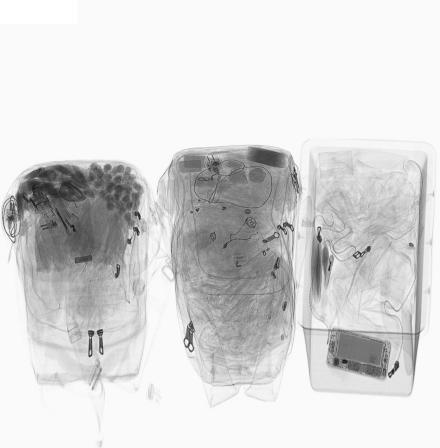Lighter: (323, 254, 336, 291)
